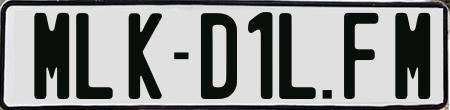1: (248, 9, 278, 99)
D: (201, 13, 240, 105)
F: (343, 12, 377, 101)
K: (126, 13, 163, 103)
L: (74, 12, 116, 98), (279, 10, 318, 98)
M: (395, 10, 436, 100), (33, 12, 71, 98)
